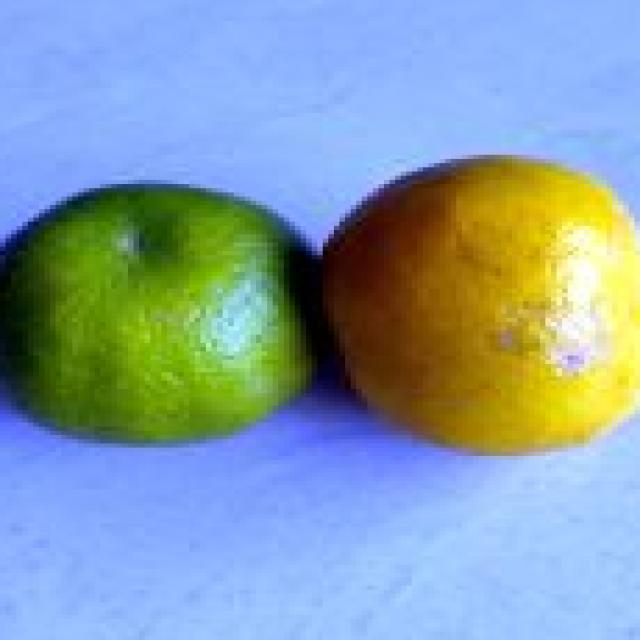Good_Orange-15-21 days: (0, 155, 640, 460)
